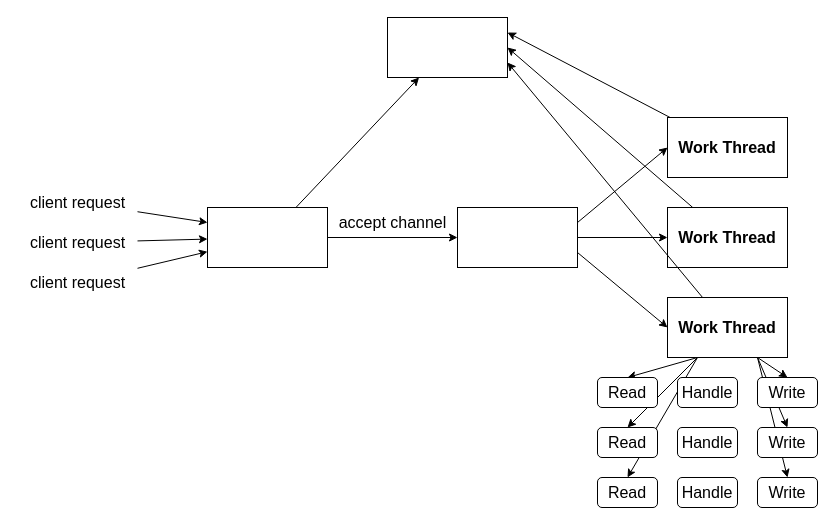
The diagram is 835 pixels wide and 525 high, and some of its shapes have lost their labels. Each missing label, with the centre of its shape:
Acceptor: the point at 517,237
Logger: the point at 447,47
Main Thread: the point at 267,237
